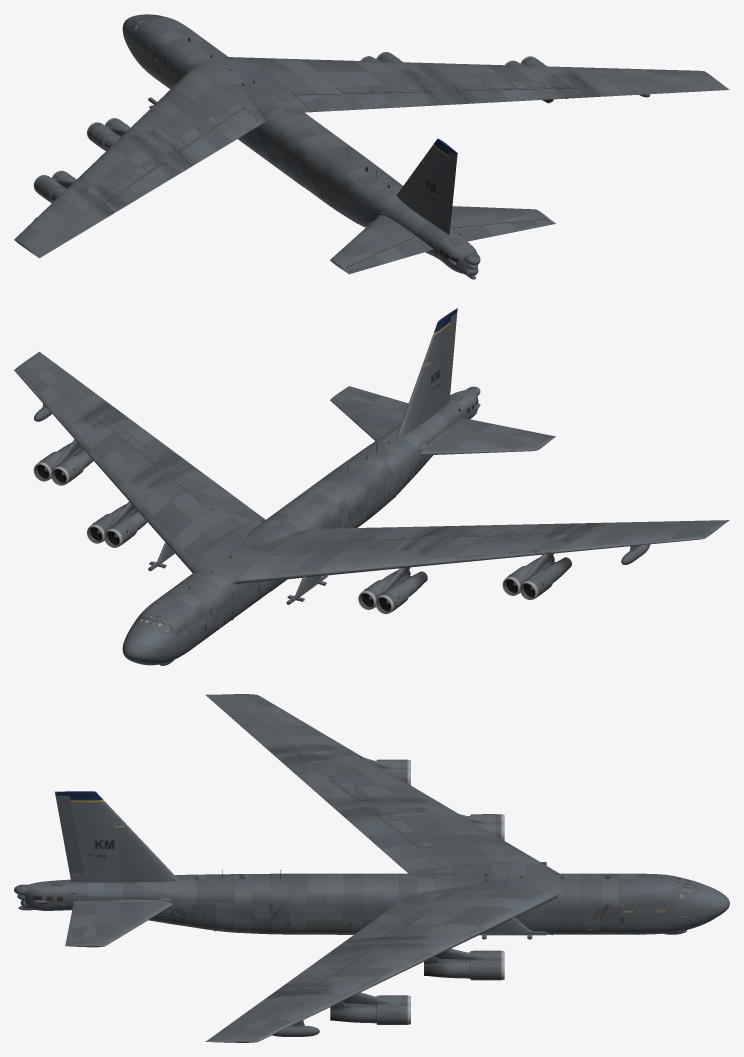
3 views of the same model, one above another, from view 1: azimuth 30°, elevation 25°; view 2: azimuth 150°, elevation 25°; view 3: azimuth 270°, elevation 25° (orthographic). The views are drawn at different scales.
Visible parts, largest first — view 1: B52_skin, wing_r, wing_l, stab, fin_c, flap1_r, flap1_l, flap2_r, flap2_l, elev_r, elev_l, pod1_l (+2 smaller); view 2: B52_skin, wing_l, wing_r, stab, fin_c, pod1_l, pod2_l, pod1_r, pod2_r, flap1_r, flap1_l, flap2_r (+2 smaller); view 3: B52_skin, wing_r, wing_l, fin_c, stab, pod1_r, pod2_r, flap1_l, flap2_l, flap1_r, rudder, flap2_r (+3 smaller).
Boxes of the visible parts, left/top/right/bottom form: B52_skin: left=122, top=14, right=480, bottom=279; wing_r: left=244, top=57, right=729, bottom=112; wing_l: left=14, top=69, right=261, bottom=258; stab: left=330, top=206, right=555, bottom=274; fin_c: left=397, top=138, right=457, bottom=234; flap1_r: left=295, top=92, right=441, bottom=111; flap1_l: left=178, top=107, right=261, bottom=165; flap2_r: left=457, top=88, right=587, bottom=103; flap2_l: left=104, top=163, right=176, bottom=212; elev_r: left=454, top=219, right=551, bottom=241; elev_l: left=346, top=237, right=428, bottom=273; pod1_l: left=87, top=118, right=130, bottom=150; B52_skin: left=122, top=386, right=480, bottom=665; wing_l: left=239, top=520, right=729, bottom=583; wing_r: left=14, top=351, right=261, bottom=569; stab: left=330, top=386, right=555, bottom=455; fin_c: left=397, top=308, right=457, bottom=437; pod1_l: left=358, top=567, right=427, bottom=614; pod2_l: left=502, top=553, right=571, bottom=599; pod1_r: left=87, top=501, right=147, bottom=547; pod2_r: left=33, top=439, right=93, bottom=485; flap1_r: left=178, top=465, right=260, bottom=525; flap1_l: left=295, top=526, right=441, bottom=537; flap2_r: left=105, top=407, right=177, bottom=461; B52_skin: left=14, top=864, right=729, bottom=934; wing_r: left=205, top=889, right=554, bottom=1042; wing_l: left=205, top=694, right=550, bottom=871; fin_c: left=55, top=791, right=178, bottom=882; stab: left=65, top=899, right=172, bottom=947; pod1_r: left=424, top=948, right=504, bottom=980; pod2_r: left=330, top=992, right=410, bottom=1024; flap1_l: left=344, top=813, right=442, bottom=871; flap2_l: left=274, top=753, right=357, bottom=804; flap1_r: left=344, top=893, right=442, bottom=942; rudder: left=55, top=795, right=83, bottom=874; flap2_r: left=274, top=949, right=357, bottom=992.
Bounding box in the file's own units: 55.98 × 10.65 × 48.78.
2 materials, 1 textured.
